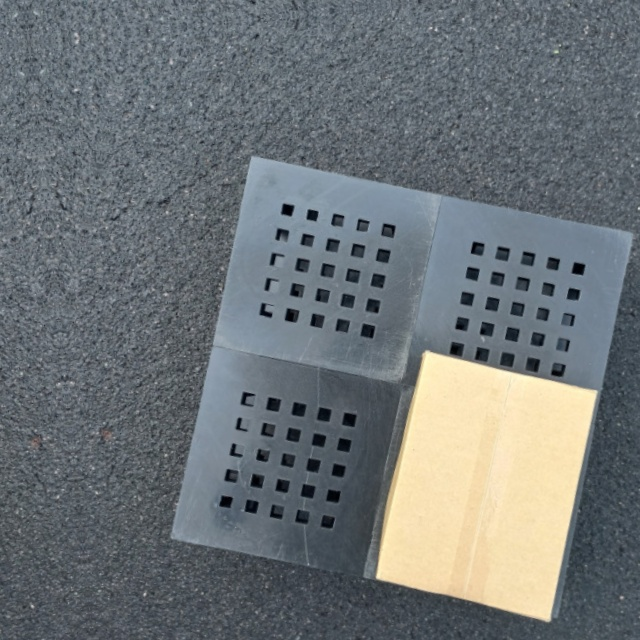box: (369, 347, 601, 625)
pallet: (161, 121, 627, 622)
